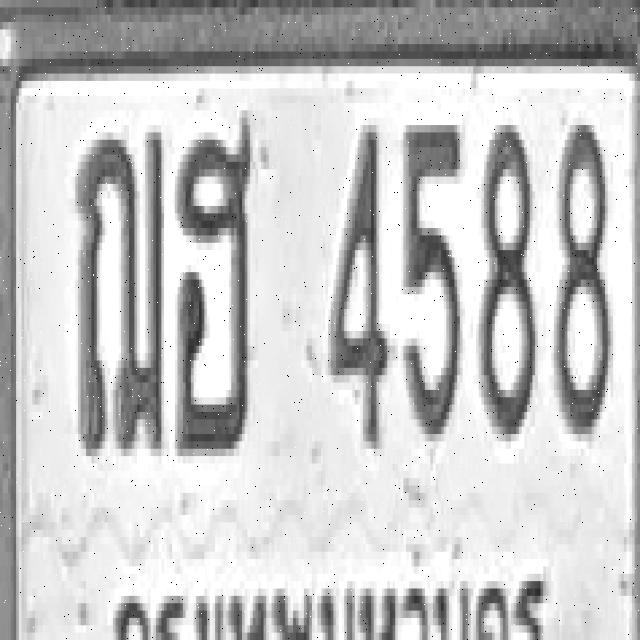21ChorChoe: (75, 125, 164, 456)
4: (328, 118, 387, 448)
5: (402, 118, 461, 442)
53HorNokHook: (175, 118, 253, 456)
8: (479, 118, 535, 434), (554, 118, 610, 434)
